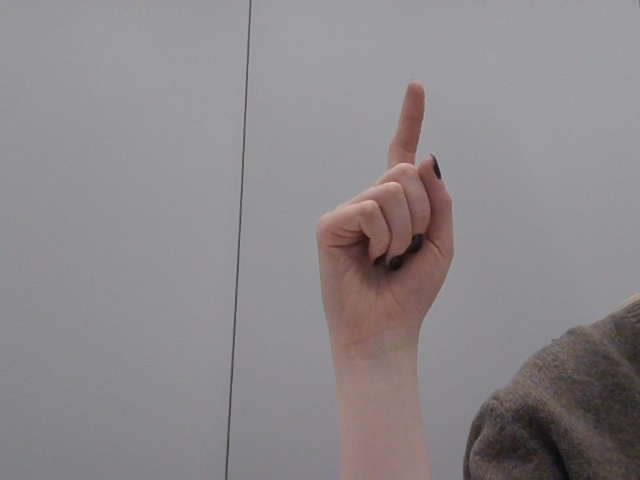up: (293, 68, 474, 369)
